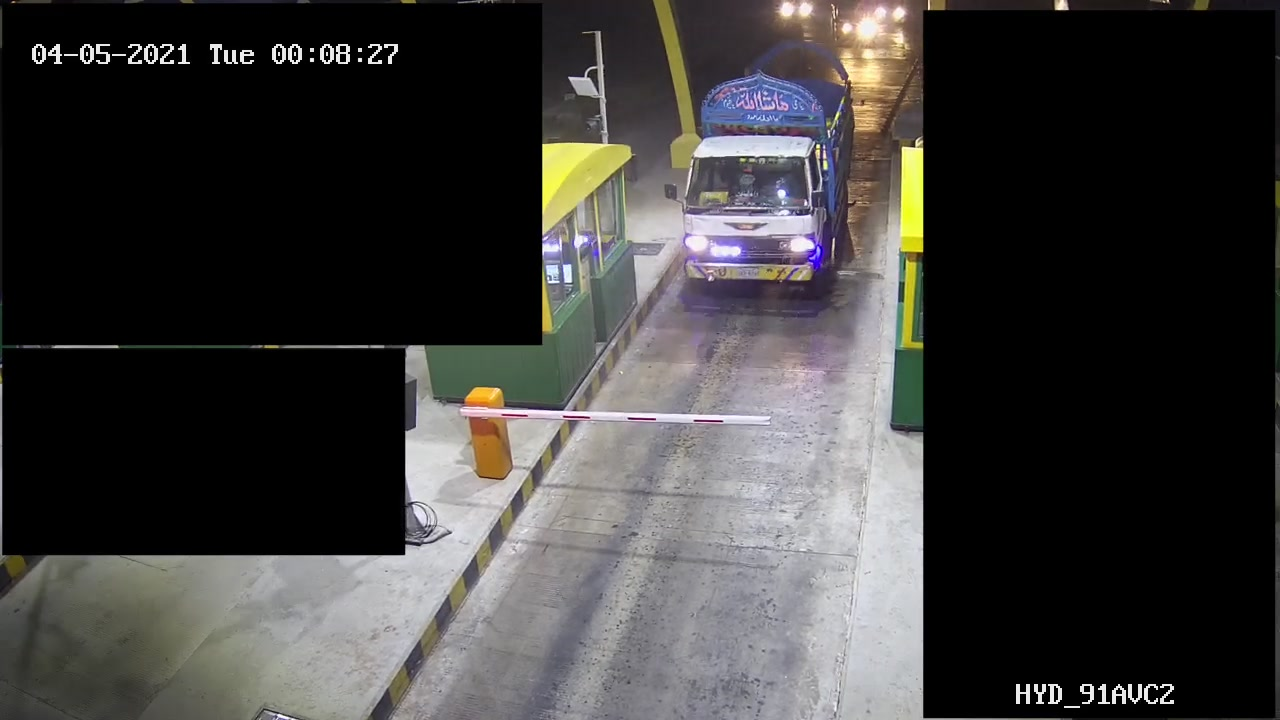F5: (679, 46, 857, 302)
